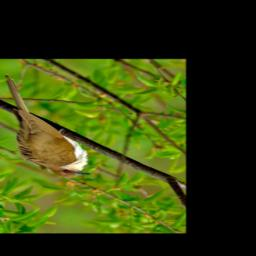Cuckoo: (2, 74, 92, 178)
